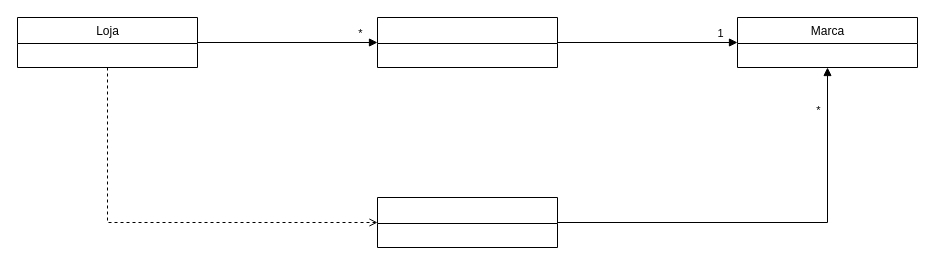
The diagram is 935 pixels wide and 265 high, and some of its shapes have lost their labels. Here are the shapes that lost their labels. From the top down, the centre of each, then its label:
At (x=467, y=42): "Produto".
At (x=467, y=222): "MarcaFactory".
